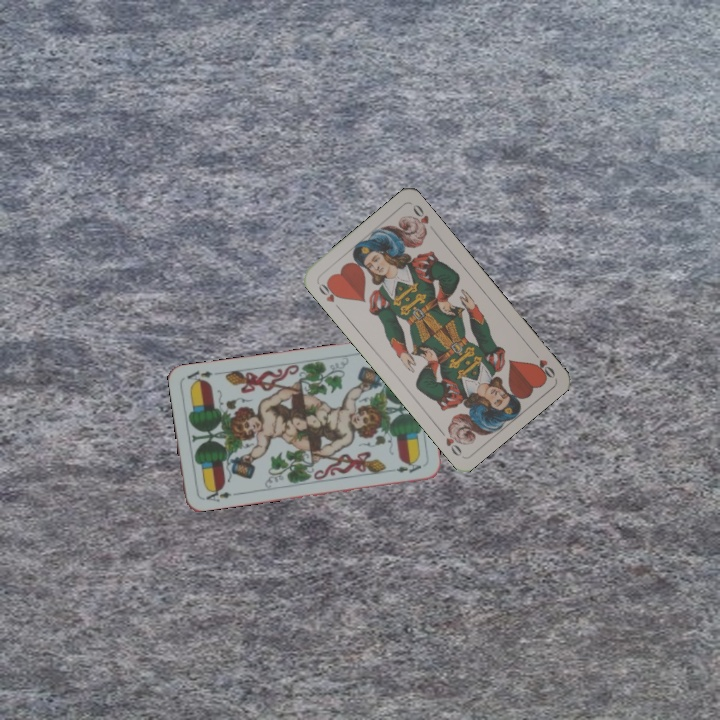EA: (199, 484, 234, 505)
HO: (527, 346, 558, 381), (314, 277, 344, 313)
